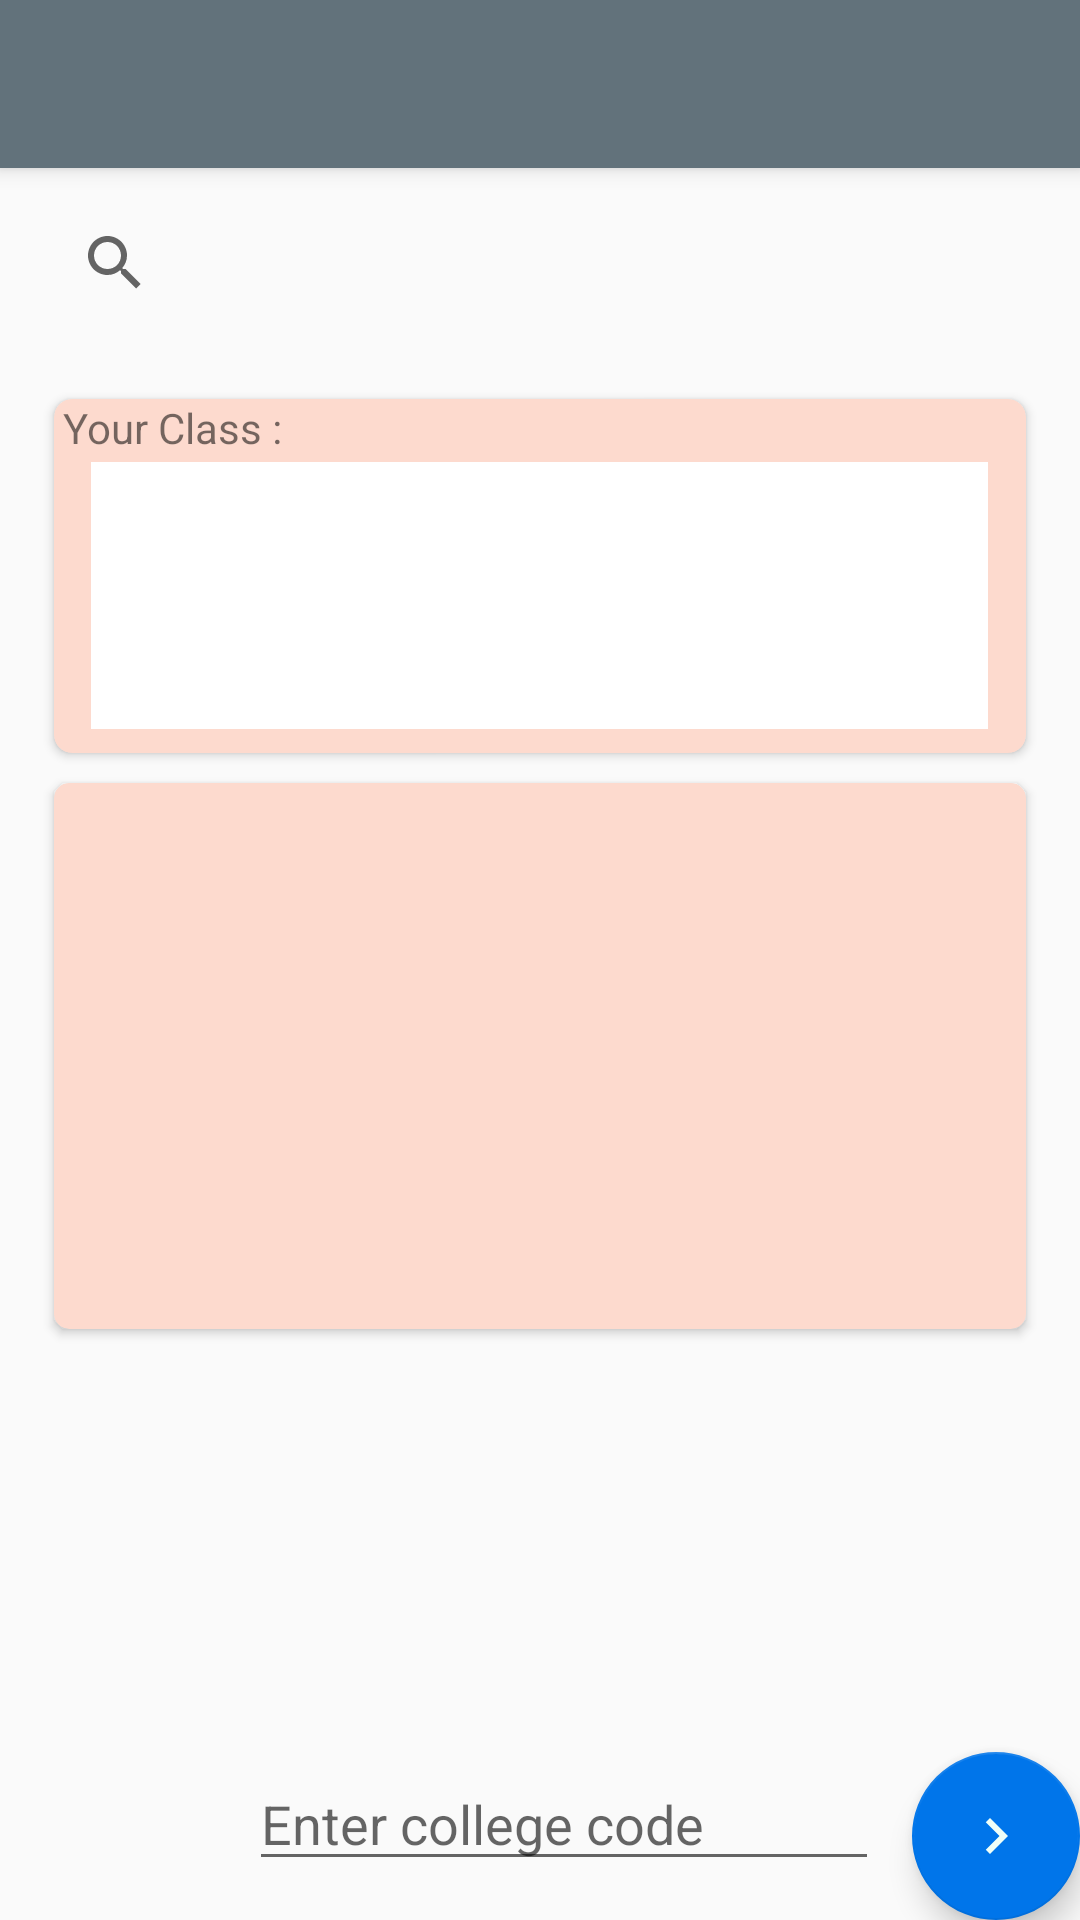

Where icons sit on this 1080 x 1920 app screen, as bbox=(x1, y1, x2, y2):
navigate next: bbox=(912, 1752, 1080, 1920)
